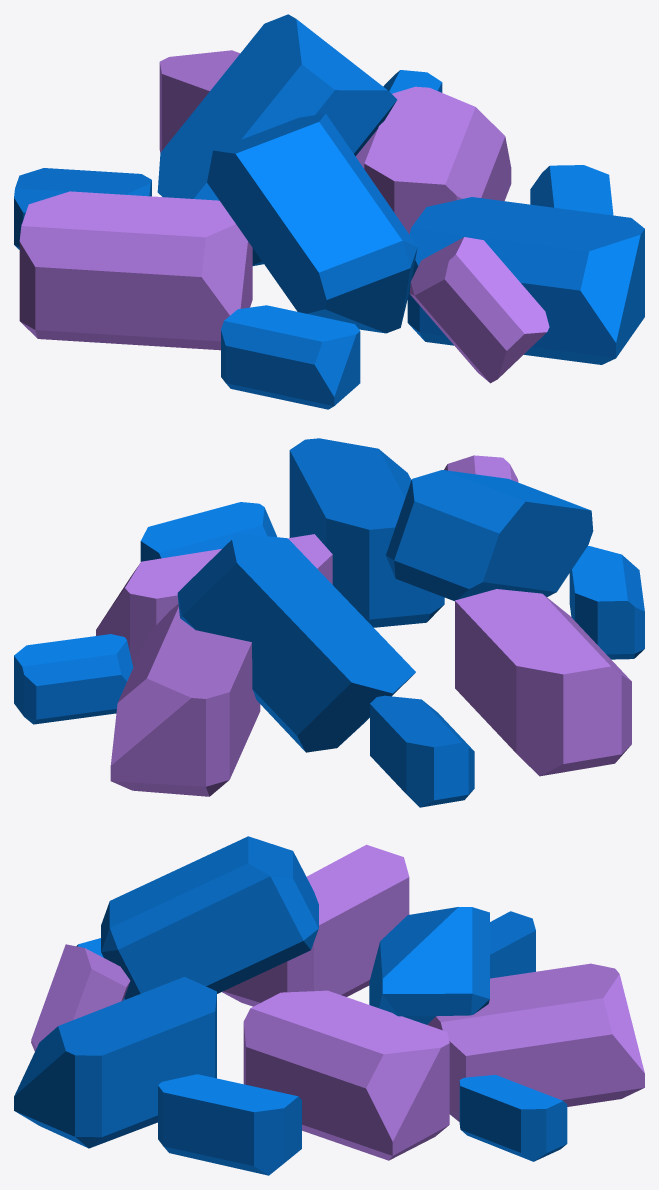
Rendered from Crab - Chopped.fbx.
The picture shows the model from 3 angles, top to bottom: view 1: azimuth 30°, elevation 25°; view 2: azimuth 150°, elevation 25°; view 3: azimuth 270°, elevation 25°; orthographic projection. The views are drawn at different scales.
Parts seen in each view (by area): view 1: Crab___Chopped; view 2: Crab___Chopped; view 3: Crab___Chopped.
Part boxes in pixels (<box>): Crab___Chopped: <box>14,14,644,409</box>; Crab___Chopped: <box>14,438,644,807</box>; Crab___Chopped: <box>14,836,644,1175</box>.
Bounding box in the file's own units: 32.78 × 12.07 × 36.4.
